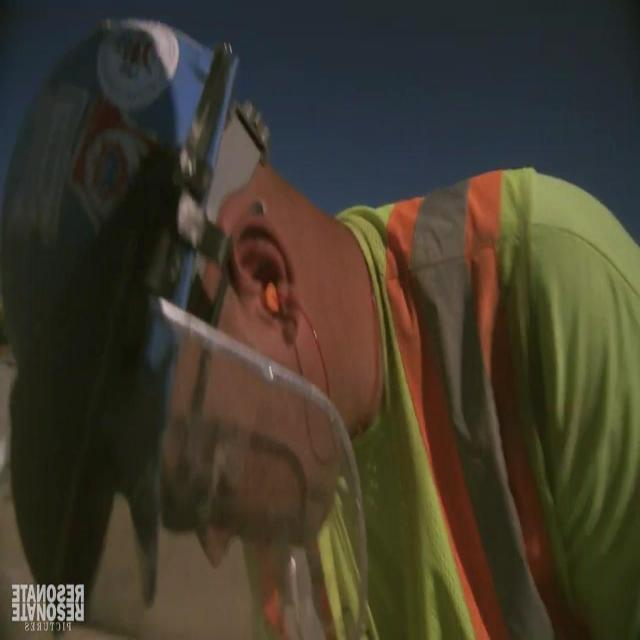Reflective-Jacket: (159, 150, 639, 638)
Safety-Helmet: (11, 13, 231, 624)
